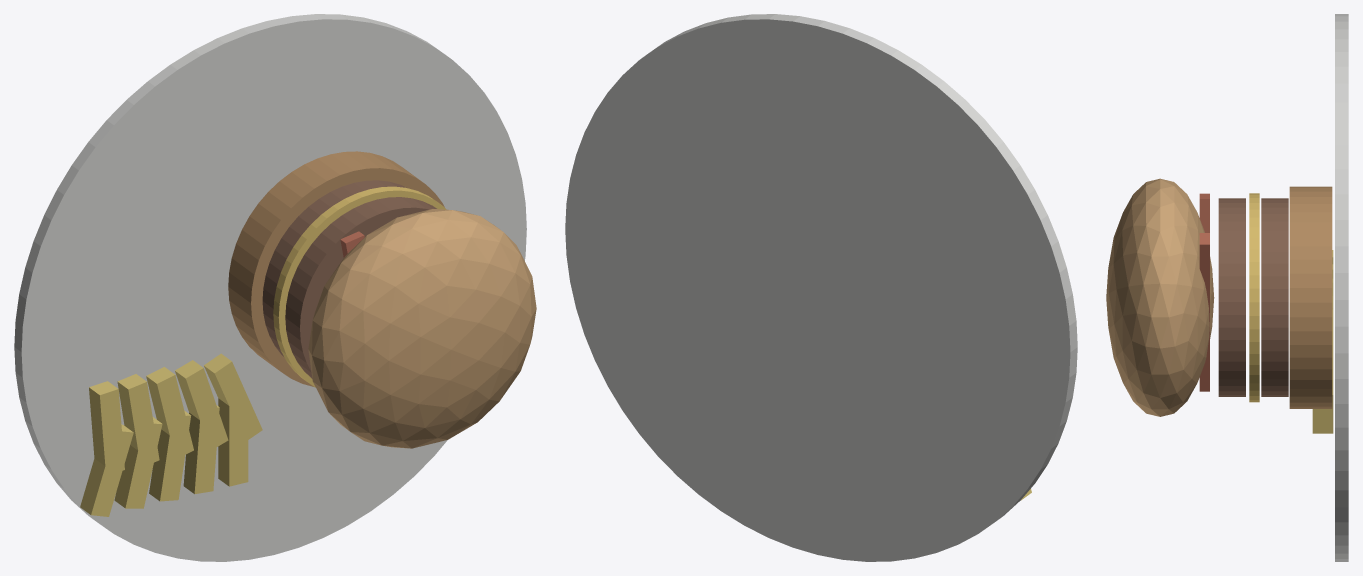
Rendered from burger-bacon.glb.
3 views of the same model, side by side, from view 1: azimuth 30°, elevation 25°; view 2: azimuth 150°, elevation 25°; view 3: azimuth 270°, elevation 25° (orthographic). The views are drawn at different scales.
Parts seen in each view (by area): view 1: world; view 2: world; view 3: world.
Boxes of the visible parts, x1=… form: world: x1=14, y1=14, x2=536, y2=561; world: x1=565, y1=14, x2=1077, y2=561; world: x1=1106, y1=14, x2=1348, y2=561.
Size of the model in its own units: 0.32 by 0.32 by 0.1415.
